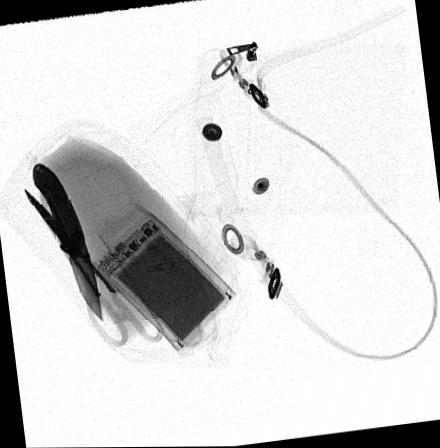Knife: (31, 163, 101, 322)
Powerbank: (94, 212, 234, 352)
Scissors: (19, 185, 161, 347)
